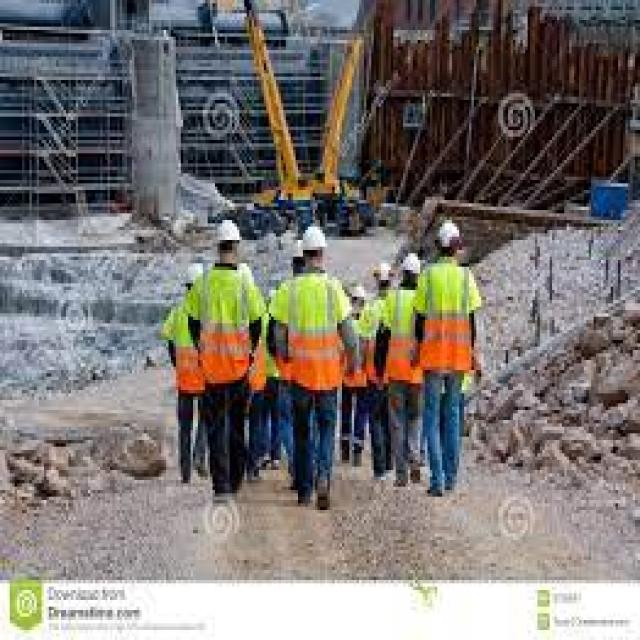Reflective-Jacket: (281, 274, 344, 394), (198, 267, 251, 390), (420, 260, 474, 380)
Safety-Helmet: (434, 220, 462, 253), (300, 224, 330, 254), (215, 217, 242, 243), (400, 250, 422, 273)
